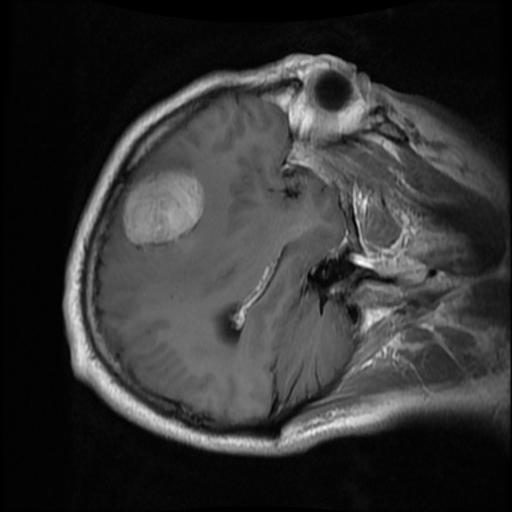meningioma: (121, 170, 203, 245)
